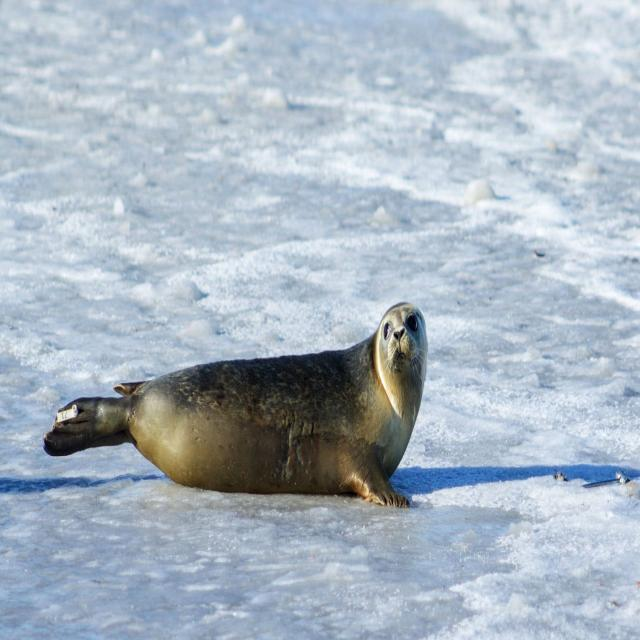WaterDog: (43, 297, 441, 544)
